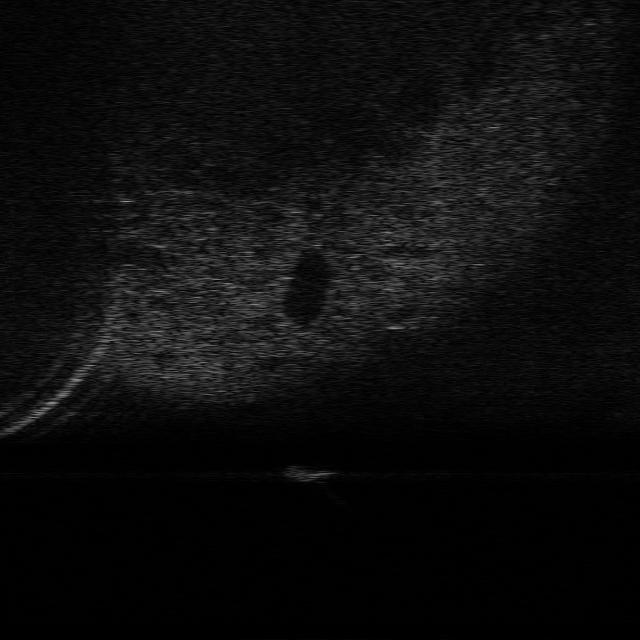cube: (279, 464, 335, 484)
